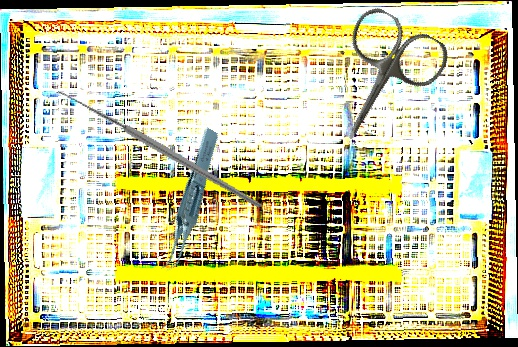Hook Surgical: (47, 31, 263, 272)
Iris Scissors: (306, 2, 455, 162)
Tissue Forceps: (131, 126, 246, 275)
